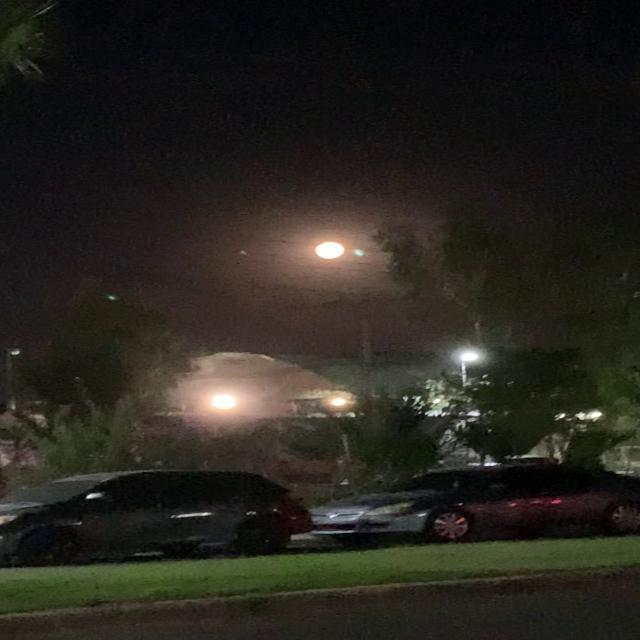moon: (308, 231, 362, 256)
